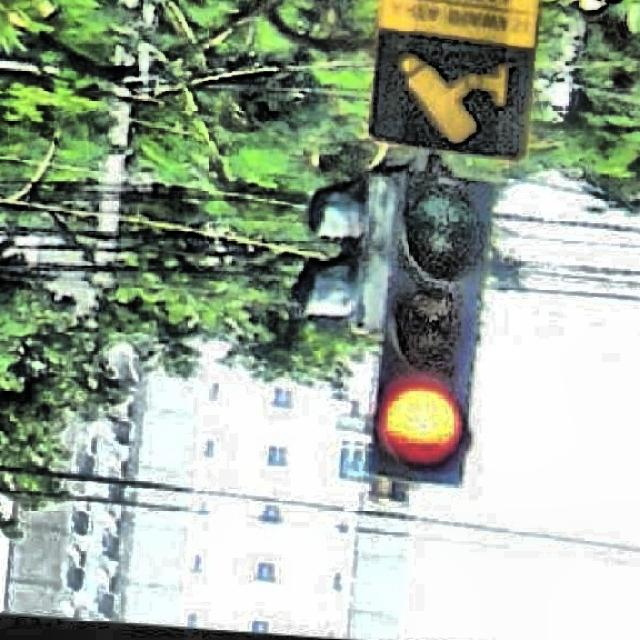red: (373, 162, 501, 479)
